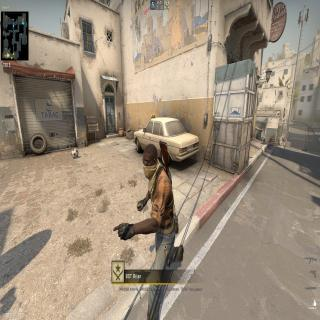T-Head: (141, 142, 159, 180)
